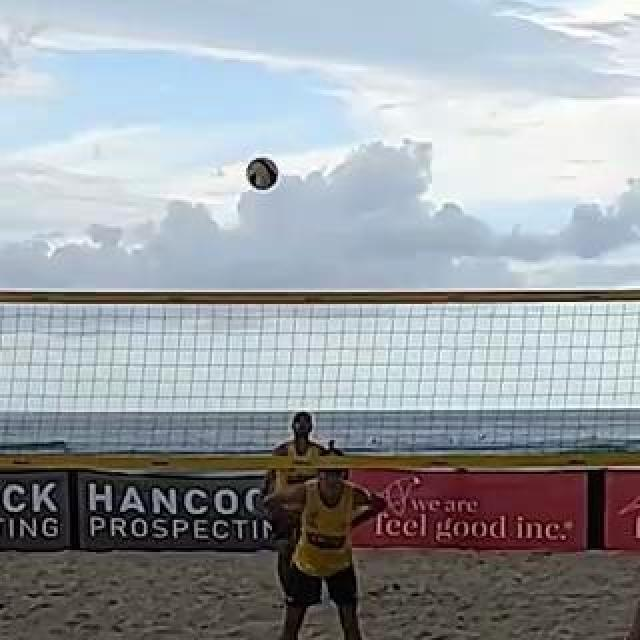volleyball: (248, 158, 278, 190)
